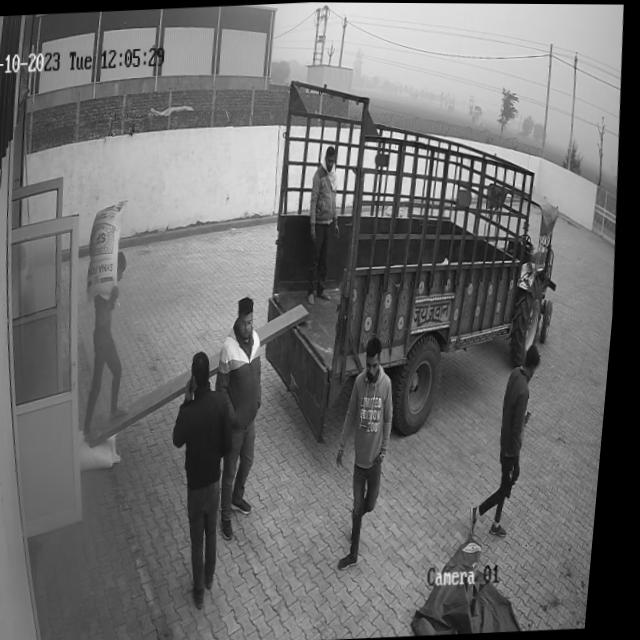sack: (85, 200, 135, 304), (85, 429, 132, 470)
